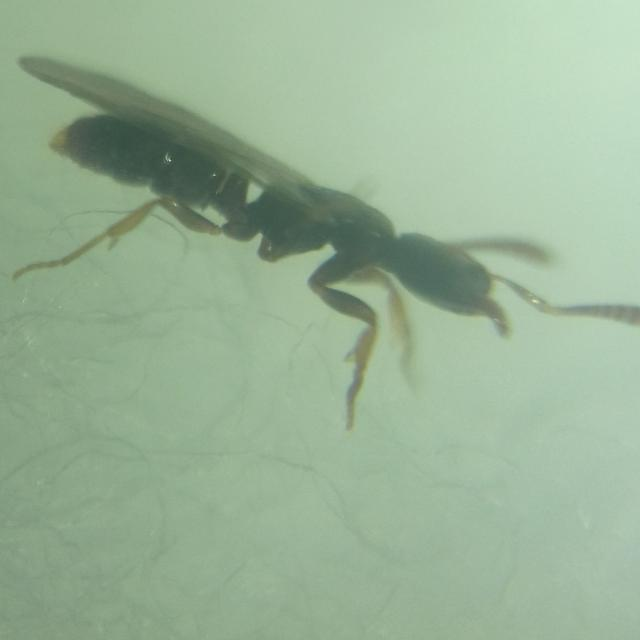Ponera: (8, 46, 594, 388)
